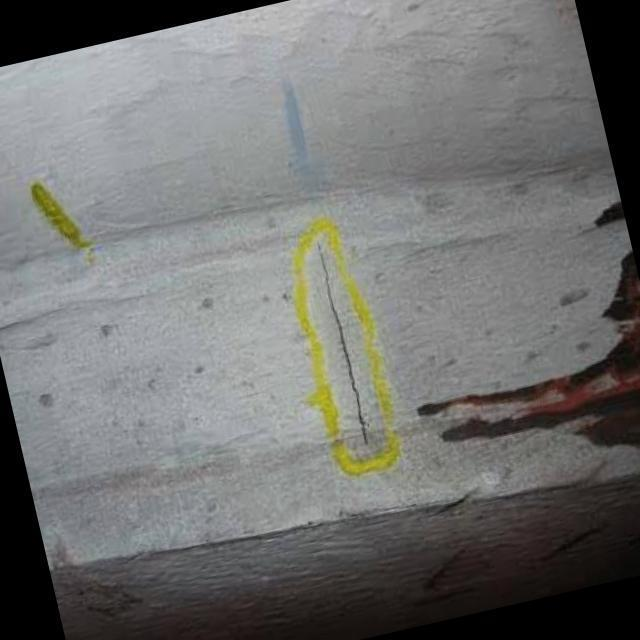defect: (312, 237, 374, 450)
